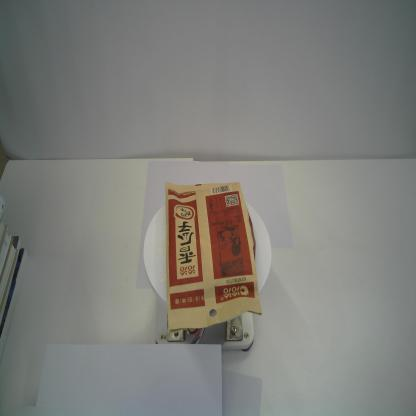Dried Food: (165, 181, 262, 333)
